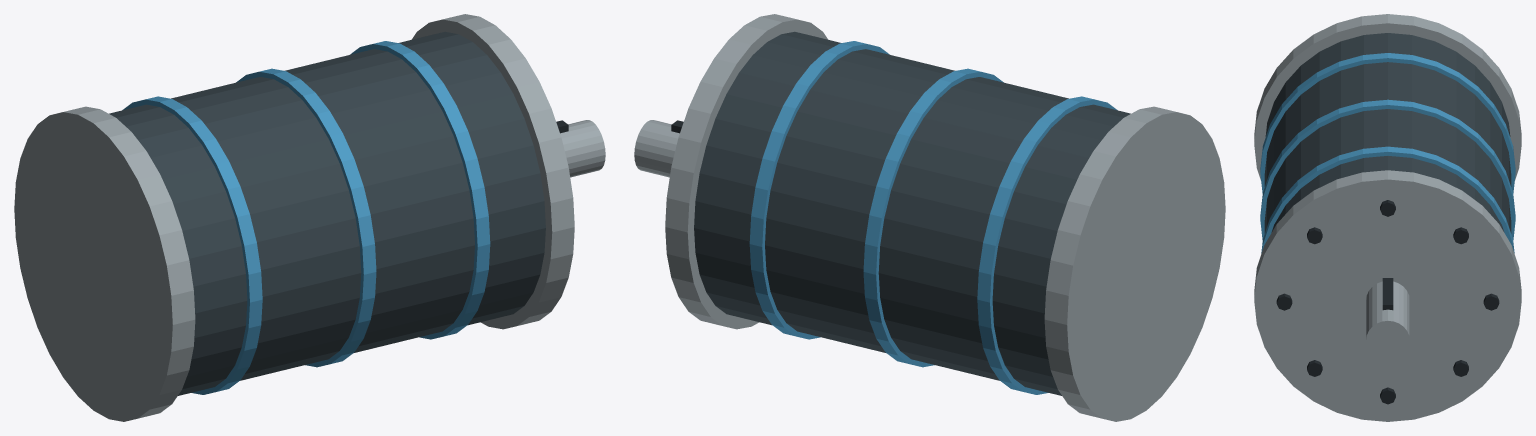
File: Drives.obj
3 views of the same model, side by side, from view 1: azimuth 30°, elevation 25°; view 2: azimuth 150°, elevation 25°; view 3: azimuth 270°, elevation 25° (orthographic). The views are drawn at different scales.
Visible parts, largest first — view 1: FSDriveBody; view 2: FSDriveBody; view 3: FSDriveBody.
Part boxes in pixels (x1,y1,x2,y2): FSDriveBody: (14,14,605,421); FSDriveBody: (634,14,1225,421); FSDriveBody: (1254,14,1521,421).
Size of the model in its own units: 0.5525 by 0.304 by 0.304.
